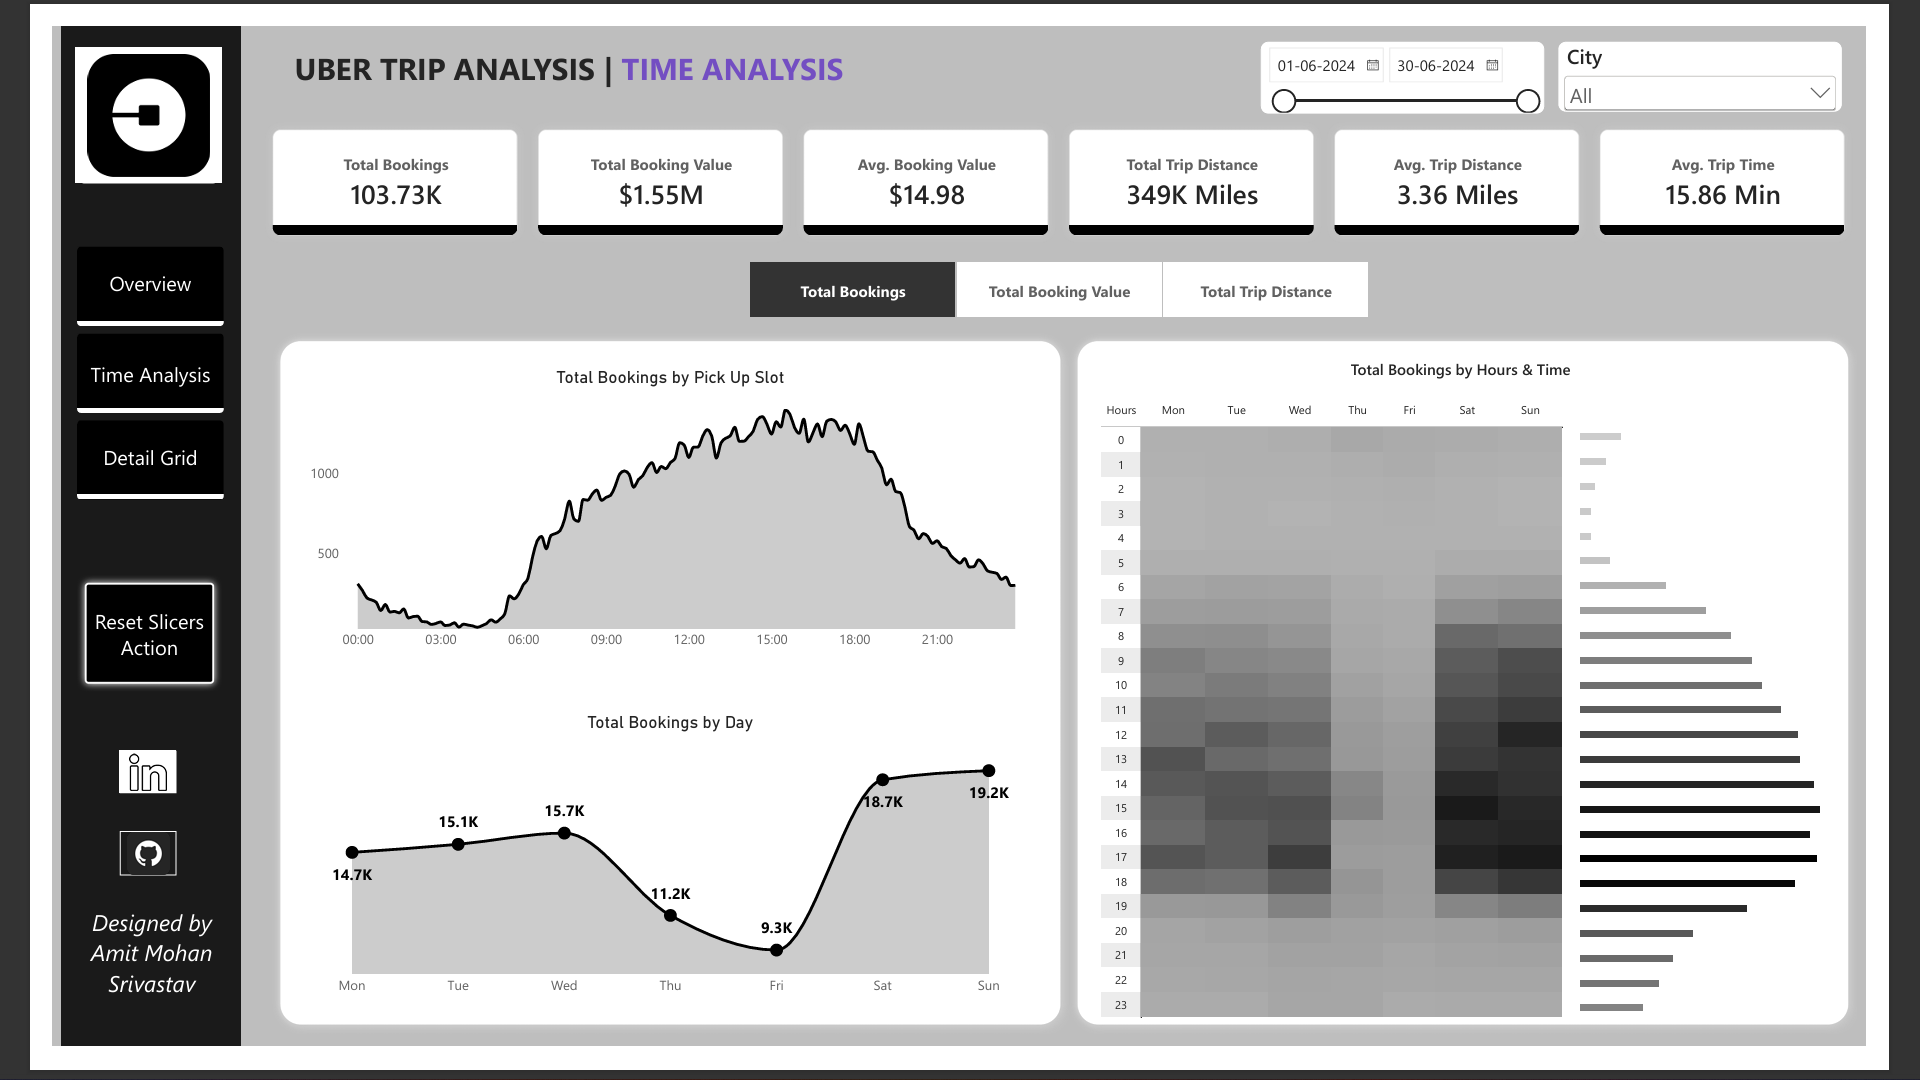

The page's visual inventory and layout, read from the dashboard file:
{"tool":"powerbi","page":{"name":"Time Analysis","canvas":[1920,1080],"ordinal":1},"visuals":[{"type":"shape","box":[9,0,190,1080],"z":0},{"type":"image","box":[70.6,767.3,59.7,45.2],"z":0,"group":"g1"},{"type":"textbox","box":[256,22,650,64],"z":1000},{"type":"image","box":[70.6,852.4,59.7,47.1],"z":1000,"group":"g1"},{"type":"shape","box":[232,324,844,742],"z":2000},{"type":"shape","box":[1076,324,834,742],"z":3000},{"type":"cardVisual","fields":{"Data":["My_Measures.Total Bookings","My_Measures.Total Booking Value","My_Measures.Avg. Booking Value","My_Measures.Total Trip Distance Display","My_Measures.Avg. Trip Distance Display","My_Measures.Avg. Trip time Display"]},"box":[222,98,1688,134],"z":4000},{"type":"slicer","fields":{"Values":["Parameter_2.Parameter_2"]},"box":[718,248,694,62],"z":5000},{"type":"slicer","fields":{"Values":["Location Table.city"]},"box":[1594,16,300,74],"z":6000},{"type":"areaChart","fields":{"Y":["My_Measures.Total Bookings"],"Category":["Trip Details.Pick Time (bins)"]},"box":[256,346,796,334],"z":7000},{"type":"areaChart","fields":{"Y":["My_Measures.Total Bookings"],"Category":["Calendar Table.day_name"]},"box":[256,712,796,334],"z":8000},{"type":"pivotTable","fields":{"Values":["My_Measures.Total Bookings"],"Rows":["Trip Details.Pick-Up Hours"],"Columns":["Calendar Table.day_name"]},"box":[1094.4,379.2,525.6,687.1],"z":9000},{"type":"barChart","fields":{"Y":["My_Measures.Total Bookings"],"Category":["Trip Details.Pick-Up Hours"]},"box":[1601.3,401.7,285.3,664.5],"z":10000},{"type":"cardVisual","fields":{"Data":["My_Measures.Matrix/Bar Title"]},"box":[1094.4,345.4,792.2,33.8],"z":11000},{"type":"slicer","fields":{"Values":["Trip Details.pick_up_date"]},"box":[1279.4,16.3,299.6,75.9],"z":12000},{"type":"image","box":[24.2,22.4,154.6,143.4],"z":13000},{"type":"pageNavigator","box":[26.1,232.8,154.6,268.2],"z":14000},{"type":"actionButton","box":[26.1,581.1,152.7,122.9],"z":15000},{"type":"textbox","box":[27.1,932,155.6,117.6],"z":16000},{"type":"group","id":"g1","title":"Group 1","box":[70.6,767.3,59.7,132.1],"z":17000}]}

Visuals, with their boxes in screenshot pixels (x1, y1, x2, y2), scaled from the page's 1920x1080 canvas onto the 1920x1080 screenshot:
shape: x1=9, y1=0, x2=199, y2=1079
image: x1=71, y1=767, x2=130, y2=812
textbox: x1=256, y1=22, x2=906, y2=86
image: x1=71, y1=852, x2=130, y2=900
shape: x1=232, y1=324, x2=1076, y2=1066
shape: x1=1076, y1=324, x2=1910, y2=1066
cardVisual - My_Measures.Total Bookings x My_Measures.Total Booking Value: x1=222, y1=98, x2=1910, y2=232
slicer - Parameter_2.Parameter_2: x1=718, y1=248, x2=1412, y2=310
slicer - Location Table.city: x1=1594, y1=16, x2=1894, y2=90
areaChart - My_Measures.Total Bookings x Trip Details.Pick Time (bins): x1=256, y1=346, x2=1052, y2=680
areaChart - My_Measures.Total Bookings x Calendar Table.day_name: x1=256, y1=712, x2=1052, y2=1046
pivotTable - My_Measures.Total Bookings x Trip Details.Pick-Up Hours: x1=1094, y1=379, x2=1620, y2=1066
barChart - My_Measures.Total Bookings x Trip Details.Pick-Up Hours: x1=1601, y1=402, x2=1887, y2=1066
cardVisual - My_Measures.Matrix/Bar Title: x1=1094, y1=345, x2=1887, y2=379
slicer - Trip Details.pick_up_date: x1=1279, y1=16, x2=1579, y2=92
image: x1=24, y1=22, x2=179, y2=166
pageNavigator: x1=26, y1=233, x2=181, y2=501
actionButton: x1=26, y1=581, x2=179, y2=704
textbox: x1=27, y1=932, x2=183, y2=1050
"Group 1" group: x1=71, y1=767, x2=130, y2=899
